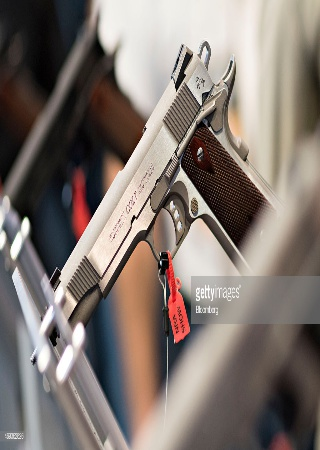handgun: (37, 40, 282, 365)
